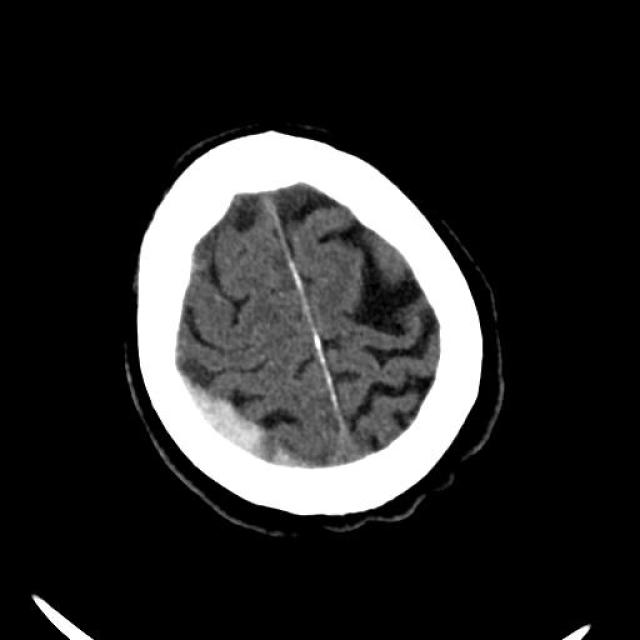Subdural: (160, 372, 308, 510)
